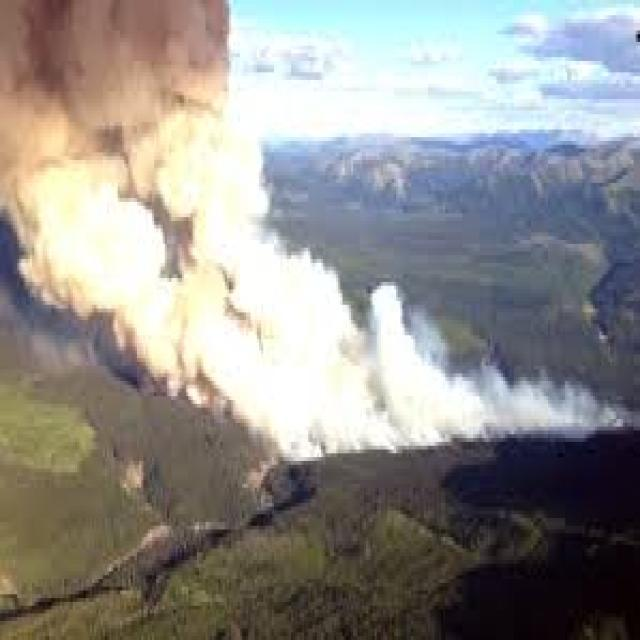Smoke: (0, 6, 278, 228), (225, 227, 436, 462), (12, 228, 226, 420), (436, 320, 640, 445)
